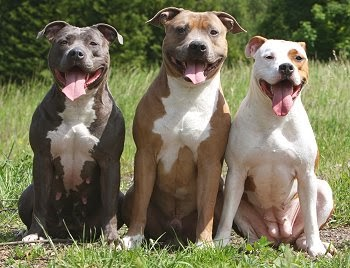am_pit_bull_terrier: (120, 6, 246, 247), (212, 35, 335, 254), (16, 20, 125, 245)
